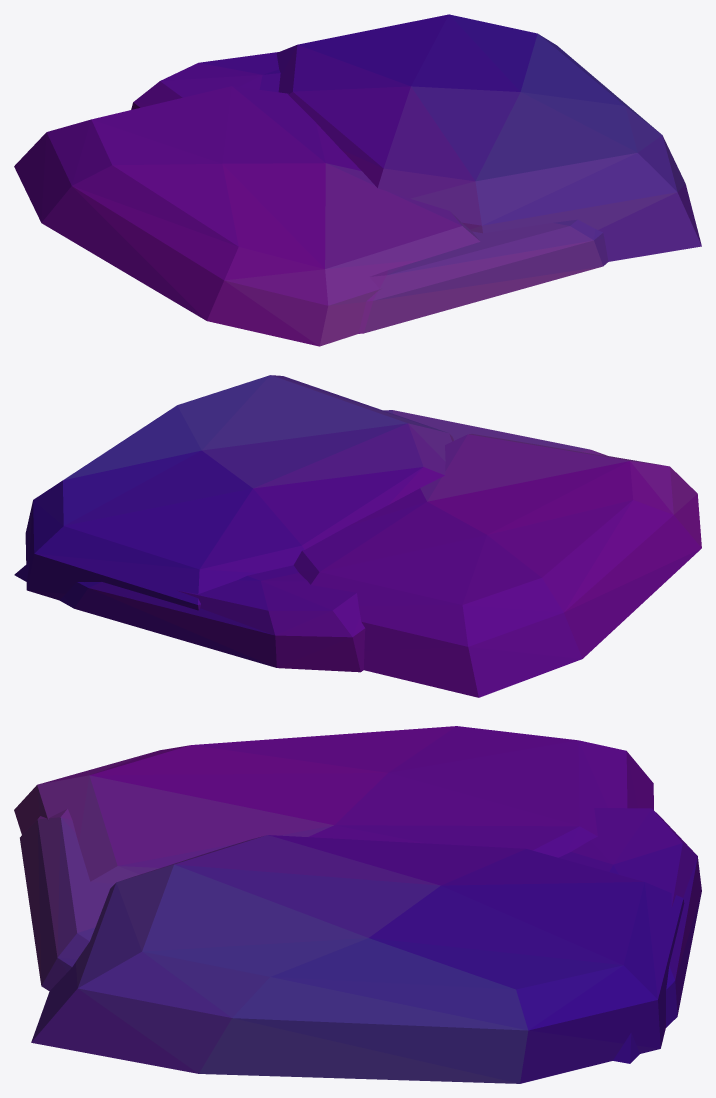
The model's file is SM_CinderCanyon_CliffMass_LOD2.fbx.
The picture shows the model from 3 angles, top to bottom: view 1: azimuth 30°, elevation 25°; view 2: azimuth 150°, elevation 25°; view 3: azimuth 270°, elevation 25°; orthographic projection. The views are drawn at different scales.
Visible parts, largest first — view 1: SM_CinderCanyon_CliffMass_LOD2; view 2: SM_CinderCanyon_CliffMass_LOD2; view 3: SM_CinderCanyon_CliffMass_LOD2.
Part boxes in pixels (x1,y1,x2,y2): SM_CinderCanyon_CliffMass_LOD2: (14,14,701,346); SM_CinderCanyon_CliffMass_LOD2: (14,375,701,697); SM_CinderCanyon_CliffMass_LOD2: (14,726,701,1083).
Bounding box in the file's own units: 100 × 90 × 12.
